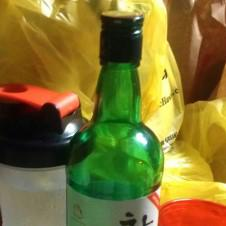soju: (59, 10, 164, 225)
